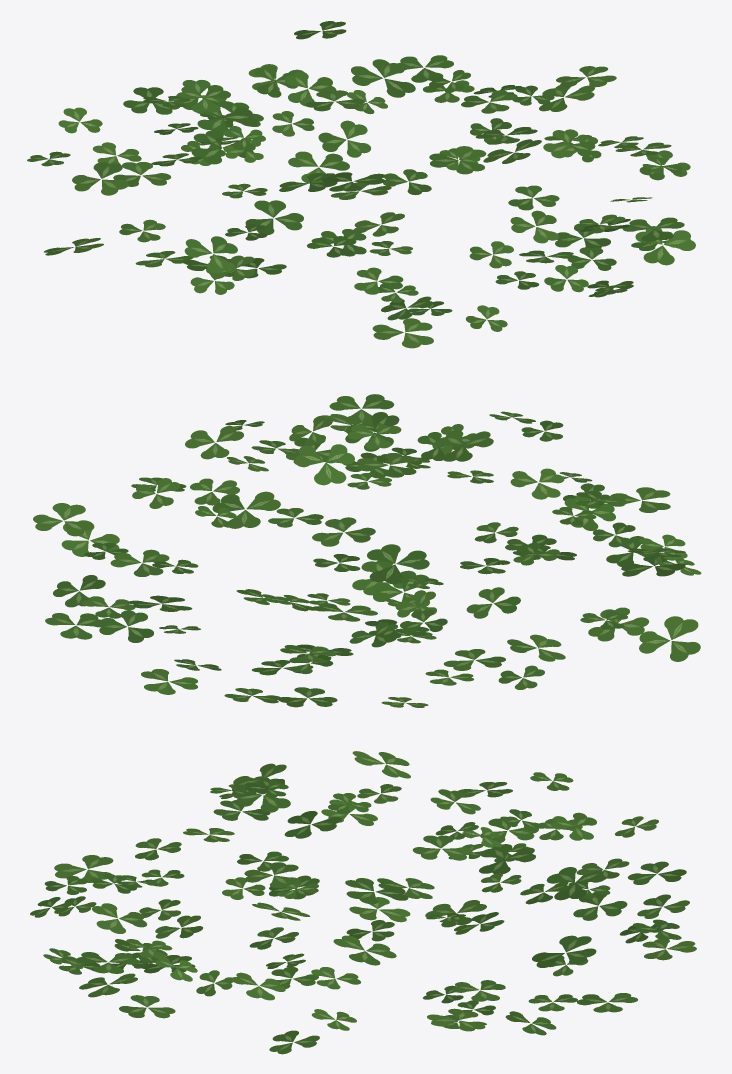
File: hoh_oregon_oxalis.glb
The picture shows the model from 3 angles, top to bottom: view 1: azimuth 30°, elevation 25°; view 2: azimuth 150°, elevation 25°; view 3: azimuth 270°, elevation 25°; orthographic projection. The views are drawn at different scales.
Visible parts, largest first — view 1: hoh_oregon_oxalis; view 2: hoh_oregon_oxalis; view 3: hoh_oregon_oxalis.
Boxes of the visible parts, x1=… form: hoh_oregon_oxalis: x1=27, y1=21, x2=695, y2=348; hoh_oregon_oxalis: x1=33, y1=394, x2=701, y2=707; hoh_oregon_oxalis: x1=30, y1=751, x2=696, y2=1054.
Bounding box in the file's own units: 0.8506 × 0.1104 × 0.8142.
Materials: 1 (1 with a texture image).
